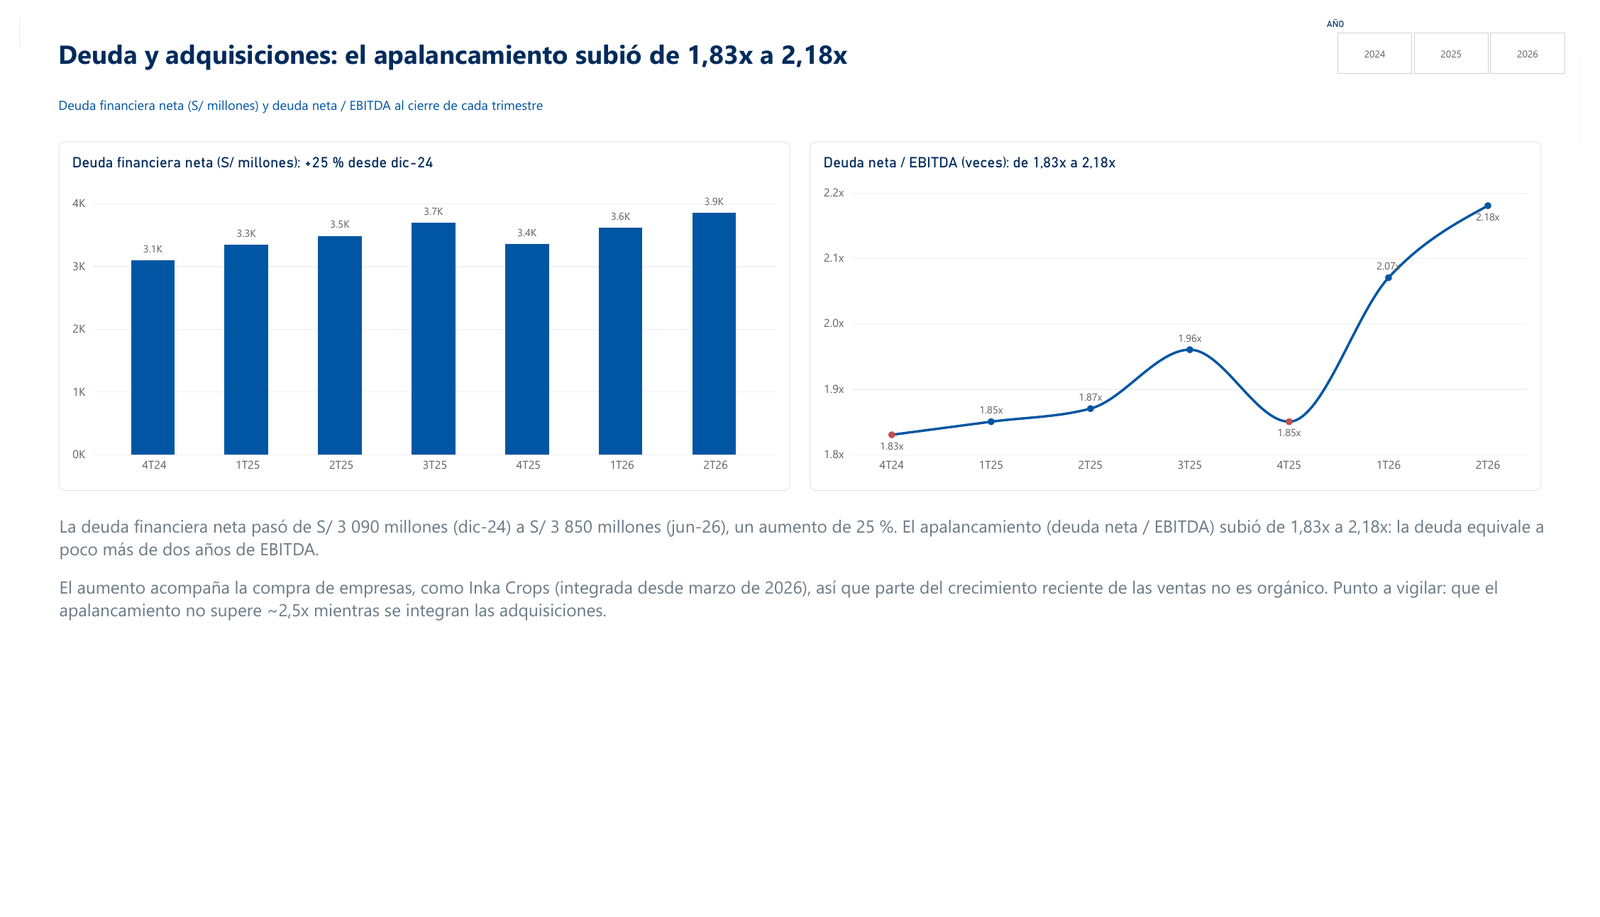

This screenshot's page, from the dashboard's own definition file:
{"tool":"powerbi","page":{"name":"Deuda y Adquisiciones","canvas":[1920,1080],"ordinal":3},"visuals":[{"type":"slicer","fields":{"Values":["dim_trimestre.anio"]},"box":[1600,0,320,68.6],"z":0},{"type":"textbox","box":[48,20,1500,70],"z":1000},{"type":"textbox","box":[48,95,700,30],"z":2000},{"type":"clusteredColumnChart","title":"Deuda financiera neta (S/ millones): +25 % desde dic-24","fields":{"Category":["dim_trimestre.etiqueta"],"Y":["_Medidas.Deuda neta"]},"box":[48,150,900,430],"z":3000},{"type":"lineChart","title":"Deuda neta / EBITDA (veces): de 1,83x a 2,18x","fields":{"Category":["dim_trimestre.etiqueta"],"Y":["_Medidas.Deuda neta / EBITDA"]},"box":[972,150,900,430],"z":4000},{"type":"textbox","box":[48.7,609.1,1872.1,276.1],"z":5000}]}

Visuals, with their boxes in screenshot pixels (x1, y1, x2, y2), scaled from the page's 1920x1080 canvas onto the 1600x917 screenshot:
slicer - dim_trimestre.anio: Rect(1333, 0, 1599, 58)
textbox: Rect(40, 17, 1290, 76)
textbox: Rect(40, 81, 623, 106)
"Deuda financiera neta (S/ millones): +25 % desde dic-24" clusteredColumnChart: Rect(40, 127, 790, 492)
"Deuda neta / EBITDA (veces): de 1,83x a 2,18x" lineChart: Rect(810, 127, 1560, 492)
textbox: Rect(41, 517, 1599, 752)
